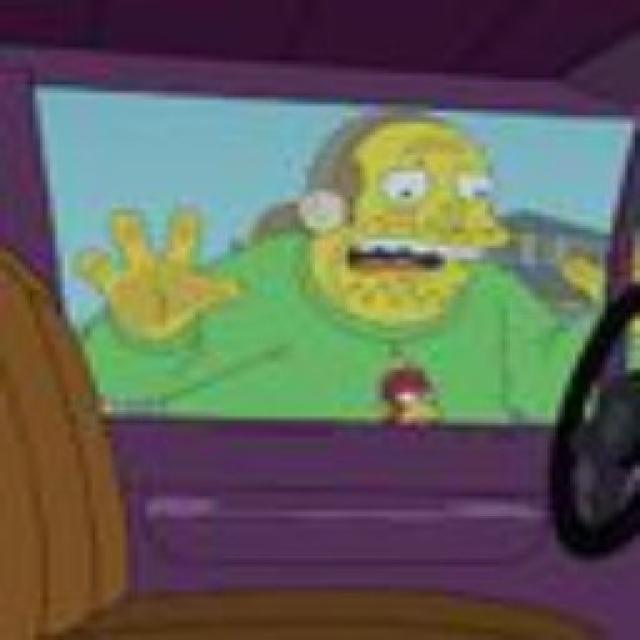Comic Book Guy: (298, 112, 508, 331)
